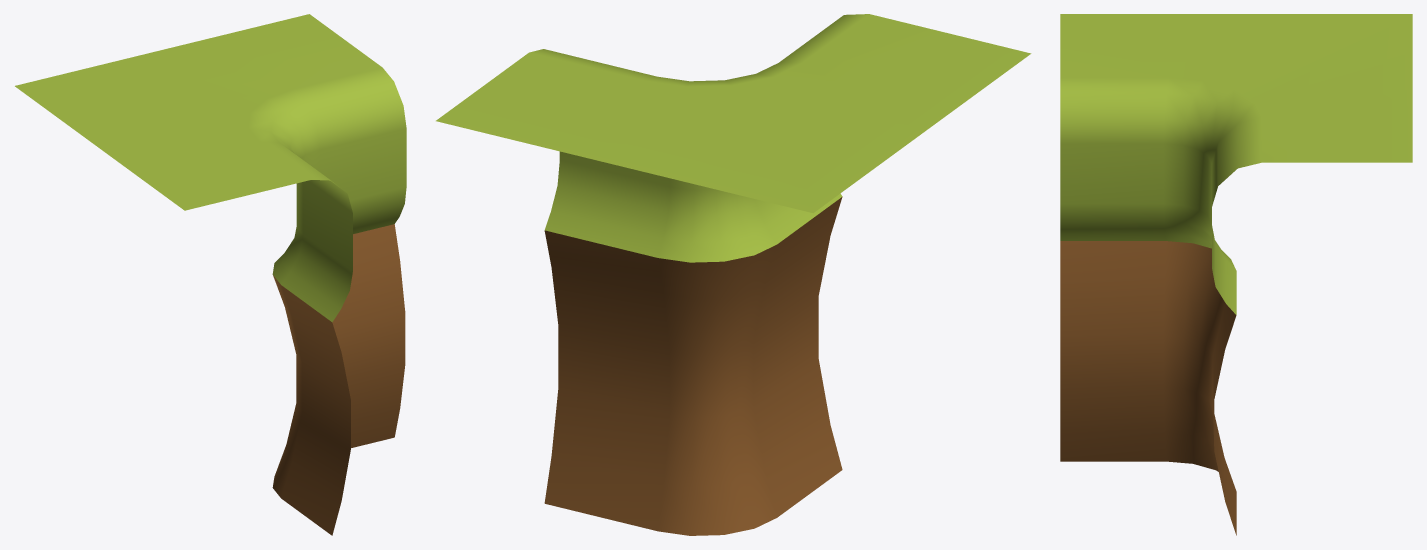
The model's file is QuinaInterna2.fbx.
The picture shows the model from 3 angles, left to right: view 1: azimuth 30°, elevation 25°; view 2: azimuth 150°, elevation 25°; view 3: azimuth 270°, elevation 25°; orthographic projection. The views are drawn at different scales.
Visible parts, largest first — view 1: QuinaInterna2; view 2: QuinaInterna2; view 3: QuinaInterna2.
Part boxes in pixels (x1=…): QuinaInterna2: x1=15, y1=14, x2=406, y2=535; QuinaInterna2: x1=436, y1=14, x2=1031, y2=535; QuinaInterna2: x1=1060, y1=14, x2=1412, y2=535.
Size of the model in its own units: 100 by 117 by 100.
